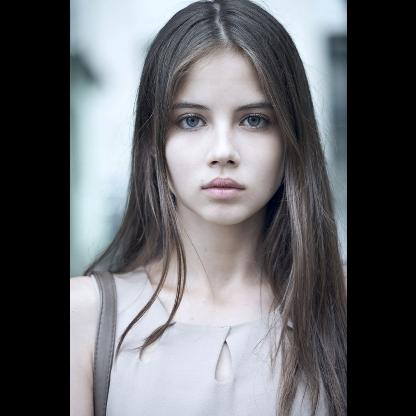Female: (164, 46, 286, 224)
